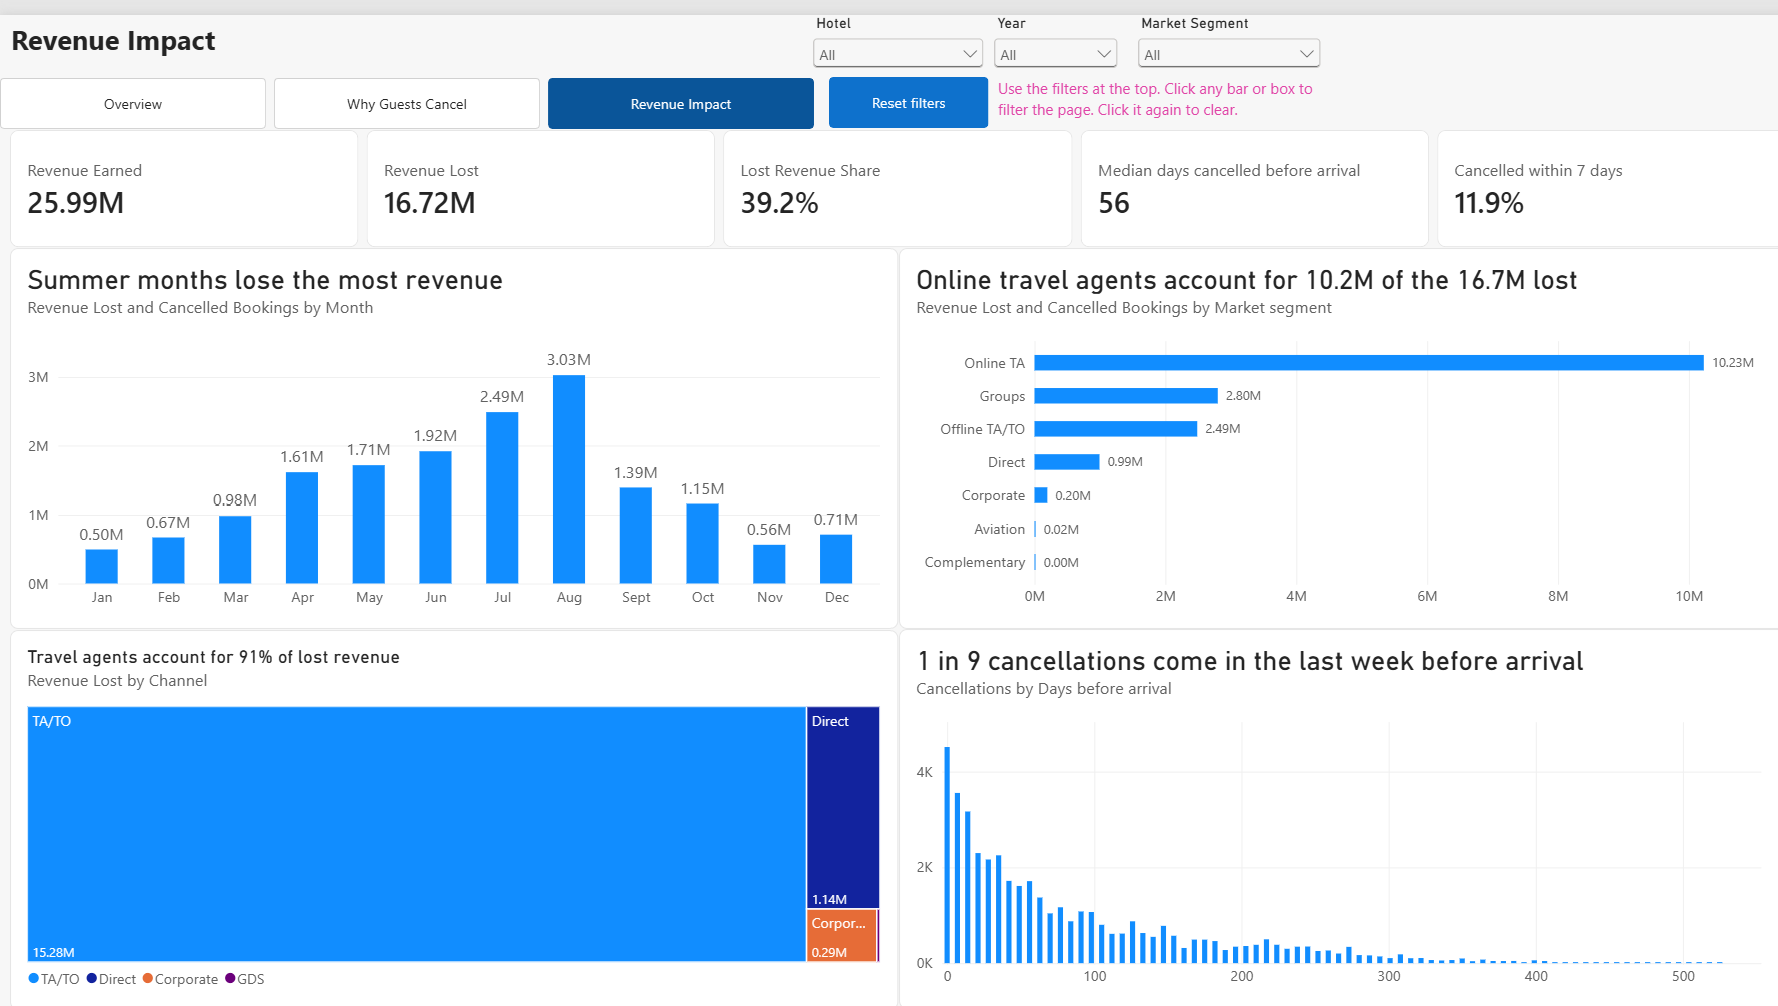

The page's visual inventory and layout, read from the dashboard file:
{"tool":"powerbi","page":{"name":"Revenue Impact","canvas":[1920,1080],"ordinal":3},"visuals":[{"type":"textbox","box":[10.5,5.2,470.3,81.9],"z":0},{"type":"slicer","fields":{"Values":["Bookings.hotel"]},"box":[793,-0.3,176.4,73.5],"z":1000},{"type":"slicer","fields":{"Values":["Date.Year"]},"box":[969.4,-0.3,131.2,68.2],"z":2000},{"type":"slicer","fields":{"Values":["Bookings.market_segment"]},"box":[1111.1,-0.3,189,73.5],"z":3000},{"type":"cardVisual","fields":{"Data":["_Measures.Revenue Earned","_Measures.Revenue Lost","_Measures.Lost Revenue Share","_Measures.Median Days Cancelled Before Arrival","_Measures.Late Cancellation Share"]},"box":[9.8,112.9,1742.2,115.6],"z":4000},{"type":"clusteredColumnChart","title":"Summer months lose the most revenue","fields":{"Category":["Date.Month"],"Y":["_Measures.Revenue Lost"]},"box":[10,228.9,871.1,373.3],"z":5000},{"type":"clusteredBarChart","title":"Online travel agents account for 10.2M of the 16.7M lost","fields":{"Category":["Bookings.market_segment"],"Y":["_Measures.Revenue Lost"]},"box":[881.1,228.9,871,373],"z":6000},{"type":"treemap","title":"Travel agents account for 91% of lost revenue","fields":{"Group":["Bookings.distribution_channel"],"Values":["_Measures.Revenue Lost"]},"box":[10,602.2,871,373],"z":7000},{"type":"clusteredColumnChart","title":"1 in 9 cancellations come in the last week before arrival","fields":{"Category":["Bookings.cancel_days_before_arrival (bins)"],"Y":["_Measures.Total Bookings"]},"box":[881,602,871,373],"z":8000},{"type":"pageNavigator","box":[0,62.2,800,50],"z":8001},{"type":"textbox","box":[978.7,61.8,321,50.1],"z":8002},{"type":"actionButton","box":[813.7,60.9,155.6,50],"z":8003}]}

Visuals, with their boxes in screenshot pixels (x1, y1, x2, y2), scaled from the page's 1920x1080 canvas onto the 1778x1006 screenshot:
textbox: [left=10, top=5, right=445, bottom=81]
slicer - Bookings.hotel: [left=734, top=0, right=898, bottom=68]
slicer - Date.Year: [left=898, top=0, right=1019, bottom=63]
slicer - Bookings.market_segment: [left=1029, top=0, right=1204, bottom=68]
cardVisual - _Measures.Revenue Earned x _Measures.Revenue Lost: [left=9, top=105, right=1622, bottom=213]
"Summer months lose the most revenue" clusteredColumnChart: [left=9, top=213, right=816, bottom=561]
"Online travel agents account for 10.2M of the 16.7M lost" clusteredBarChart: [left=816, top=213, right=1623, bottom=561]
"Travel agents account for 91% of lost revenue" treemap: [left=9, top=561, right=816, bottom=908]
"1 in 9 cancellations come in the last week before arrival" clusteredColumnChart: [left=816, top=561, right=1622, bottom=908]
pageNavigator: [left=0, top=58, right=741, bottom=105]
textbox: [left=906, top=58, right=1204, bottom=104]
actionButton: [left=754, top=57, right=898, bottom=103]
